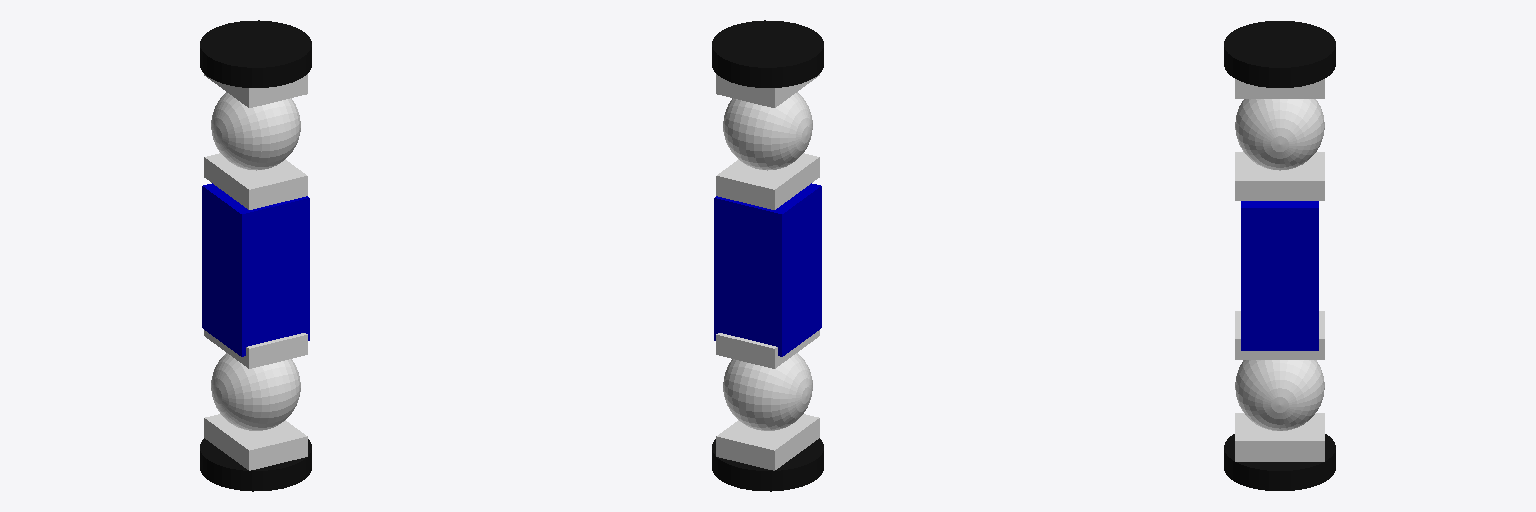
robot.urdf — mrs:
<?xml version="1.0" ?>
<!-- =================================================================================== -->
<!-- |    This document was autogenerated by xacro from AJM2_1.xacro                   | -->
<!-- |    EDITING THIS FILE BY HAND IS NOT RECOMMENDED                                 | -->
<!-- =================================================================================== -->
<robot name="mrs" xmlns:xacro="http://www.ros.org/wiki/xacro">
  <!-- Constants for robot -->
  <!-- Import all Gazebo-customization elements, including Gazebo colors -->
  <material name="Blue">
    <color rgba="0.0 0.0 0.8 1.0"/>
  </material>
  <material name="Grey">
    <color rgba="0.7 0.7 0.7 1.0"/>
  </material>
  <material name="Grey2">
    <color rgba="0.9 0.9 0.9 1.0"/>
  </material>
  <material name="Red">
    <color rgba="0.8 0.0 0.0 1.0"/>
  </material>
  <material name="White">
    <color rgba="1.0 1.0 1.0 1.0"/>
  </material>
  <material name="Black">
    <color rgba="0.1 0.1 0.1 1.0"/>
  </material>
  <material name="LightGrey">
    <color rgba="0.6 0.6 0.6 1.0"/>
  </material>
  <material name="Orange">
    <color rgba="1.0 0.4 0.0 1.0"/>
  </material>
  <material name="DarkGrey">
    <color rgba="0.3 0.3 0.3 1.0"/>
  </material>
  <material name="Green">
    <color rgba="0.0 1.0 0.0 1.0"/>
  </material>
  <material name="Caster">
    <texture filename="package://pr2_description/materials/textures/pr2_caster_texture.png"/>
  </material>
  <material name="Wheel_l">
    <texture filename="package://pr2_description/materials/textures/pr2_wheel_left.png"/>
  </material>
  <material name="Wheel_r">
    <texture filename="package://pr2_description/materials/textures/pr2_wheel_right.png"/>
  </material>
  <material name="RollLinks">
    <texture filename="package://pr2_description/materials/textures/pr2_wheel_left.png"/>
  </material>
  <!-- materials for visualization -->
  <!--
  <xacro:include filename="$(find mrs_description)/urdf/materials.urdf.xacro" />
-->
  <!-- For 2 JM 2 PC 2 WM mobile robot -->
  <link name="base_footprint">
    <visual>
      <origin rpy="0 0 0" xyz="0 0 0"/>
      <geometry>
        <box size="0.001 0.001 0.001"/>
      </geometry>
      <material name="Red"/>
    </visual>
    <collision>
      <geometry>
        <box size="0.001 0.001 0.001"/>
      </geometry>
    </collision>
  </link>
  <joint name="base_footprint_joint" type="fixed">
    <origin rpy="0 0 0" xyz="0 0 0"/>
    <child link="base_footprint_dummy"/>
    <parent link="base_footprint"/>
  </joint>
  <link name="base_footprint_dummy"/>
  <link name="mrs_sm_wheel_link_1">
    <visual>
      <geometry>
        <cylinder length="0.1" radius="0.25"/>
      </geometry>
      <material name="Black">
        </material>
    </visual>
    <collision>
      <geometry>
        <cylinder length="0.1" radius="0.25"/>
      </geometry>
    </collision>
    <inertial>
      <mass value="1"/>
      <inertia ixx="1" ixy="0.0" ixz="0.0" iyy="1" iyz="0.0" izz="1"/>
    </inertial>
  </link>
  <joint name="mrs_sm_wheel_joint_1" type="fixed">
    <parent link="base_footprint"/>
    <child link="mrs_sm_wheel_link_1"/>
    <origin rpy=" 0 0.0 0" xyz="0.0 0 0"/>
  </joint>
  <gazebo reference="mrs_sm_wheel_link_1">
    <material>Gazebo/White</material>
    <selfCollide>false</selfCollide>
  </gazebo>
  <link name="1_jm_link_1">
    <visual>
      <geometry>
        <box size="0.1 0.4 0.3"/>
      </geometry>
      <material name="Grey2">
        </material>
    </visual>
    <collision>
      <geometry>
        <box size="0.1 0.4 0.3"/>
      </geometry>
    </collision>
    <inertial>
      <mass value="1"/>
      <inertia ixx="1" ixy="0.0" ixz="0.0" iyy="1" iyz="0.0" izz="1"/>
    </inertial>
  </link>
  <joint name="1_jm_joint_1" type="continuous">
    <parent link="mrs_sm_wheel_link_1"/>
    <child link="1_jm_link_1"/>
    <axis xyz="1 0 0"/>
    <origin rpy="0 -1.57079632679 0" xyz="0.0 0 0.1"/>
  </joint>
  <gazebo reference="1_jm_link_1">
    <material>Gazebo/Grey</material>
    <selfCollide>false</selfCollide>
  </gazebo>
  <link name="1_jm_link2_1">
    <visual>
      <geometry>
        <sphere radius="0.2"/>
      </geometry>
      <material name="Grey2">
          </material>
    </visual>
    <collision>
      <geometry>
        <sphere radius="0.2"/>
      </geometry>
    </collision>
    <inertial>
      <mass value="1"/>
      <inertia ixx="1" ixy="0.0" ixz="0.0" iyy="1" iyz="0.0" izz="1"/>
    </inertial>
  </link>
  <joint name="1_jm_joint2_1" type="revolute">
    <parent link="1_jm_link_1"/>
    <child link="1_jm_link2_1"/>
    <origin rpy="0 0 0" xyz="0.25 0 0"/>
    <axis xyz="0 0 1"/>
    <limit effort="100" lower="-1.57079632679" upper="1.57079632679" velocity="100"/>
  </joint>
  <gazebo reference="1_jm_link2_1">
    <material>Gazebo/Grey</material>
    <selfCollide>false</selfCollide>
  </gazebo>
  <link name="1_jm_link_2">
    <visual>
      <geometry>
        <box size="0.1 0.4 0.3"/>
      </geometry>
      <material name="Grey2">
        </material>
    </visual>
    <collision>
      <geometry>
        <box size="0.1 0.4 0.3"/>
      </geometry>
    </collision>
    <inertial>
      <mass value="1"/>
      <inertia ixx="1" ixy="0.0" ixz="0.0" iyy="1" iyz="0.0" izz="1"/>
    </inertial>
  </link>
  <joint name="1_jm_joint_2" type="continuous">
    <parent link="1_jm_link2_1"/>
    <child link="1_jm_link_2"/>
    <axis xyz="1 0 0"/>
    <origin rpy="0 -0.0 0" xyz="0.25 0 0"/>
  </joint>
  <gazebo reference="1_jm_link_2">
    <material>Gazebo/Grey</material>
    <selfCollide>false</selfCollide>
  </gazebo>
  <transmission name="1_jm_joint_1tran">
    <type>transmission_interface/SimpleTransmission</type>
    <joint name="1_jm_joint_1"/>
    <actuator name="1_jm_joint_1_motor">
      <hardwareInterface>EffortJointInterface</hardwareInterface>
      <mechanicalReduction>1</mechanicalReduction>
    </actuator>
  </transmission>
  <transmission name="1_jm_joint_2tran">
    <type>transmission_interface/SimpleTransmission</type>
    <joint name="1_jm_joint_2"/>
    <actuator name="1_jm_joint_2_motor">
      <hardwareInterface>EffortJointInterface</hardwareInterface>
      <mechanicalReduction>1</mechanicalReduction>
    </actuator>
  </transmission>
  <transmission name="1_jm_joint2_1tran">
    <type>transmission_interface/SimpleTransmission</type>
    <joint name="1_jm_joint2_1"/>
    <actuator name="1_jm_joint2_1_motor">
      <hardwareInterface>EffortJointInterface</hardwareInterface>
      <mechanicalReduction>1</mechanicalReduction>
    </actuator>
  </transmission>
  <link name="mrs_pcm_link_1">
    <visual>
      <geometry>
        <box size="0.35 0.35 0.35"/>
      </geometry>
      <material name="Blue">
          </material>
    </visual>
    <collision>
      <geometry>
        <box size="0.35 0.35 0.35"/>
      </geometry>
    </collision>
    <inertial>
      <mass value="0.01"/>
      <inertia ixx="1" ixy="0.0" ixz="0.0" iyy="1" iyz="0.0" izz="1"/>
    </inertial>
  </link>
  <joint name="mrs_pcm_joint_1" type="fixed">
    <parent link="1_jm_link_2"/>
    <child link="mrs_pcm_link_1"/>
    <origin rpy="0 -0.0 0" xyz="0.18 0 0"/>
  </joint>
  <gazebo reference="mrs_pcm_link_1">
    <material>Gazebo/Blue</material>
    <selfCollide>false</selfCollide>
  </gazebo>
  <link name="mrs_pcm_link_2">
    <visual>
      <geometry>
        <box size="0.35 0.35 0.35"/>
      </geometry>
      <material name="Blue">
          </material>
    </visual>
    <collision>
      <geometry>
        <box size="0.35 0.35 0.35"/>
      </geometry>
    </collision>
    <inertial>
      <mass value="0.01"/>
      <inertia ixx="1" ixy="0.0" ixz="0.0" iyy="1" iyz="0.0" izz="1"/>
    </inertial>
  </link>
  <joint name="mrs_pcm_joint_2" type="fixed">
    <parent link="mrs_pcm_link_1"/>
    <child link="mrs_pcm_link_2"/>
    <origin rpy="0 -0.0 0" xyz="0.35 0 0"/>
  </joint>
  <gazebo reference="mrs_pcm_link_2">
    <material>Gazebo/Blue</material>
    <selfCollide>false</selfCollide>
  </gazebo>
  <link name="2_jm_link_1">
    <visual>
      <geometry>
        <box size="0.1 0.4 0.3"/>
      </geometry>
      <material name="Grey2">
        </material>
    </visual>
    <collision>
      <geometry>
        <box size="0.1 0.4 0.3"/>
      </geometry>
    </collision>
    <inertial>
      <mass value="1"/>
      <inertia ixx="1" ixy="0.0" ixz="0.0" iyy="1" iyz="0.0" izz="1"/>
    </inertial>
  </link>
  <joint name="2_jm_joint_1" type="continuous">
    <parent link="mrs_pcm_link_2"/>
    <child link="2_jm_link_1"/>
    <axis xyz="1 0 0"/>
    <origin rpy="0 -0.0 0" xyz="0.25 0 0"/>
  </joint>
  <gazebo reference="2_jm_link_1">
    <material>Gazebo/Grey</material>
    <selfCollide>false</selfCollide>
  </gazebo>
  <link name="2_jm_link2_1">
    <visual>
      <geometry>
        <sphere radius="0.2"/>
      </geometry>
      <material name="Grey2">
          </material>
    </visual>
    <collision>
      <geometry>
        <sphere radius="0.2"/>
      </geometry>
    </collision>
    <inertial>
      <mass value="1"/>
      <inertia ixx="1" ixy="0.0" ixz="0.0" iyy="1" iyz="0.0" izz="1"/>
    </inertial>
  </link>
  <joint name="2_jm_joint2_1" type="revolute">
    <parent link="2_jm_link_1"/>
    <child link="2_jm_link2_1"/>
    <origin rpy="0 0 0" xyz="0.25 0 0"/>
    <axis xyz="0 0 1"/>
    <limit effort="100" lower="-1.57079632679" upper="1.57079632679" velocity="100"/>
  </joint>
  <gazebo reference="2_jm_link2_1">
    <material>Gazebo/Grey</material>
    <selfCollide>false</selfCollide>
  </gazebo>
  <link name="2_jm_link_2">
    <visual>
      <geometry>
        <box size="0.1 0.4 0.3"/>
      </geometry>
      <material name="Grey2">
        </material>
    </visual>
    <collision>
      <geometry>
        <box size="0.1 0.4 0.3"/>
      </geometry>
    </collision>
    <inertial>
      <mass value="1"/>
      <inertia ixx="1" ixy="0.0" ixz="0.0" iyy="1" iyz="0.0" izz="1"/>
    </inertial>
  </link>
  <joint name="2_jm_joint_2" type="continuous">
    <parent link="2_jm_link2_1"/>
    <child link="2_jm_link_2"/>
    <axis xyz="1 0 0"/>
    <origin rpy="0 -0.0 0" xyz="0.25 0 0"/>
  </joint>
  <gazebo reference="2_jm_link_2">
    <material>Gazebo/Grey</material>
    <selfCollide>false</selfCollide>
  </gazebo>
  <transmission name="2_jm_joint_1tran">
    <type>transmission_interface/SimpleTransmission</type>
    <joint name="2_jm_joint_1"/>
    <actuator name="2_jm_joint_1_motor">
      <hardwareInterface>EffortJointInterface</hardwareInterface>
      <mechanicalReduction>1</mechanicalReduction>
    </actuator>
  </transmission>
  <transmission name="2_jm_joint_2tran">
    <type>transmission_interface/SimpleTransmission</type>
    <joint name="2_jm_joint_2"/>
    <actuator name="2_jm_joint_2_motor">
      <hardwareInterface>EffortJointInterface</hardwareInterface>
      <mechanicalReduction>1</mechanicalReduction>
    </actuator>
  </transmission>
  <transmission name="2_jm_joint2_1tran">
    <type>transmission_interface/SimpleTransmission</type>
    <joint name="2_jm_joint2_1"/>
    <actuator name="2_jm_joint2_1_motor">
      <hardwareInterface>EffortJointInterface</hardwareInterface>
      <mechanicalReduction>1</mechanicalReduction>
    </actuator>
  </transmission>
  <link name="mrs_sm_wheel_link_2">
    <visual>
      <geometry>
        <cylinder length="0.1" radius="0.25"/>
      </geometry>
      <material name="Black">
        </material>
    </visual>
    <collision>
      <geometry>
        <cylinder length="0.1" radius="0.25"/>
      </geometry>
    </collision>
    <inertial>
      <mass value="1"/>
      <inertia ixx="1" ixy="0.0" ixz="0.0" iyy="1" iyz="0.0" izz="1"/>
    </inertial>
  </link>
  <joint name="mrs_sm_wheel_joint_2" type="fixed">
    <parent link="2_jm_link_2"/>
    <child link="mrs_sm_wheel_link_2"/>
    <origin rpy=" 0 1.57079632679 0" xyz="0.1 0 0"/>
  </joint>
  <gazebo reference="mrs_sm_wheel_link_2">
    <material>Gazebo/White</material>
    <selfCollide>false</selfCollide>
  </gazebo>
  <gazebo>
    <plugin filename="libgazebo_ros_control.so" name="gazebo_ros_control">
      <robotNamespace>/mrs</robotNamespace>
    </plugin>
  </gazebo>
</robot>

--- What the picture shows (computed from the rendered views, not written in the file) ---
The picture shows the robot from 3 angles, left to right: view 1: azimuth 30°, elevation 25°; view 2: azimuth 150°, elevation 25°; view 3: azimuth 270°, elevation 25°; orthographic projection.
Model mrs with 12 links and 11 joints (2 revolute, 4 continuous, 5 fixed), rooted at base_footprint, posed all joints at 0.
Visible links, largest first — view 1: mrs_pcm_link_2, mrs_pcm_link_1, mrs_sm_wheel_link_2, 1_jm_link2_1, 2_jm_link2_1, 2_jm_link_1, 1_jm_link_1, mrs_sm_wheel_link_1, 1_jm_link_2, 2_jm_link_2; view 2: mrs_pcm_link_2, mrs_pcm_link_1, mrs_sm_wheel_link_2, 1_jm_link2_1, 2_jm_link2_1, 2_jm_link_1, 1_jm_link_1, mrs_sm_wheel_link_1, 1_jm_link_2, 2_jm_link_2; view 3: mrs_sm_wheel_link_2, mrs_pcm_link_2, mrs_pcm_link_1, 2_jm_link2_1, 1_jm_link2_1, 1_jm_link_1, 2_jm_link_1, mrs_sm_wheel_link_1, 1_jm_link_2, 2_jm_link_2.
Boxes of the visible links, left/top/right/bottom form: mrs_pcm_link_2: left=202, top=183, right=309, bottom=285; mrs_pcm_link_1: left=202, top=257, right=309, bottom=356; mrs_sm_wheel_link_2: left=200, top=20, right=311, bottom=87; 1_jm_link2_1: left=211, top=353, right=300, bottom=430; 2_jm_link2_1: left=211, top=92, right=300, bottom=170; 2_jm_link_1: left=204, top=153, right=307, bottom=209; 1_jm_link_1: left=204, top=414, right=307, bottom=470; mrs_sm_wheel_link_1: left=200, top=438, right=311, bottom=491; 1_jm_link_2: left=204, top=330, right=307, bottom=368; 2_jm_link_2: left=204, top=74, right=307, bottom=107; mrs_pcm_link_2: left=714, top=183, right=821, bottom=285; mrs_pcm_link_1: left=714, top=257, right=821, bottom=356; mrs_sm_wheel_link_2: left=712, top=20, right=823, bottom=87; 1_jm_link2_1: left=723, top=353, right=812, bottom=430; 2_jm_link2_1: left=723, top=92, right=812, bottom=170; 2_jm_link_1: left=716, top=153, right=819, bottom=209; 1_jm_link_1: left=716, top=414, right=819, bottom=470; mrs_sm_wheel_link_1: left=712, top=438, right=823, bottom=491; 1_jm_link_2: left=716, top=330, right=819, bottom=368; 2_jm_link_2: left=716, top=74, right=819, bottom=107; mrs_sm_wheel_link_2: left=1224, top=21, right=1335, bottom=87; mrs_pcm_link_2: left=1241, top=201, right=1318, bottom=279; mrs_pcm_link_1: left=1241, top=280, right=1318, bottom=350; 2_jm_link2_1: left=1235, top=99, right=1324, bottom=170; 1_jm_link2_1: left=1235, top=360, right=1324, bottom=430; 1_jm_link_1: left=1235, top=413, right=1324, bottom=461; 2_jm_link_1: left=1235, top=152, right=1324, bottom=200; mrs_sm_wheel_link_1: left=1224, top=434, right=1335, bottom=490; 1_jm_link_2: left=1235, top=311, right=1324, bottom=359; 2_jm_link_2: left=1235, top=79, right=1324, bottom=98.
Bounding box of the posed robot: 0.5 × 0.5 × 2.08 m (x, y, z).
Geometry: primitives only (box / cylinder / sphere), no mesh files.
